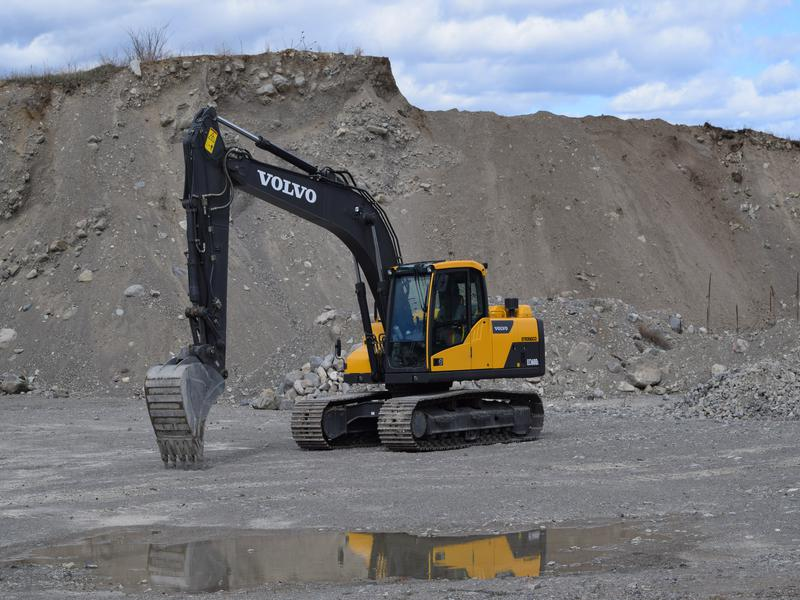shovel: (129, 105, 575, 479)
